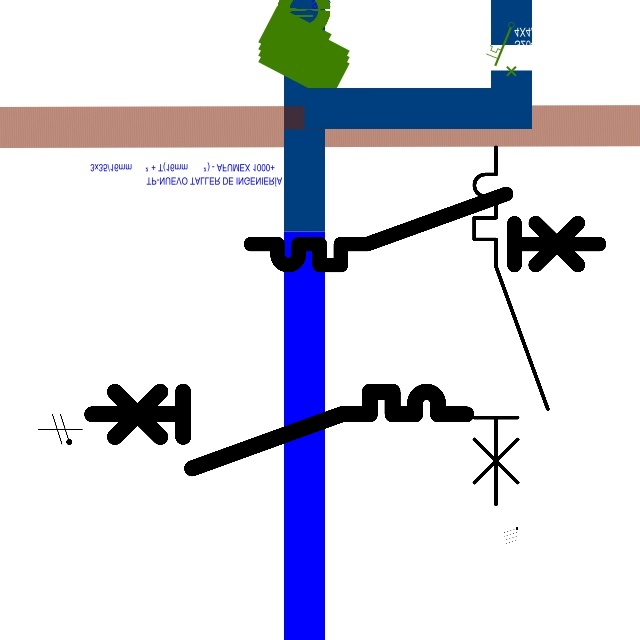interruptor_termomagnetico: (82, 382, 476, 478), (465, 138, 557, 513), (242, 185, 608, 274)
